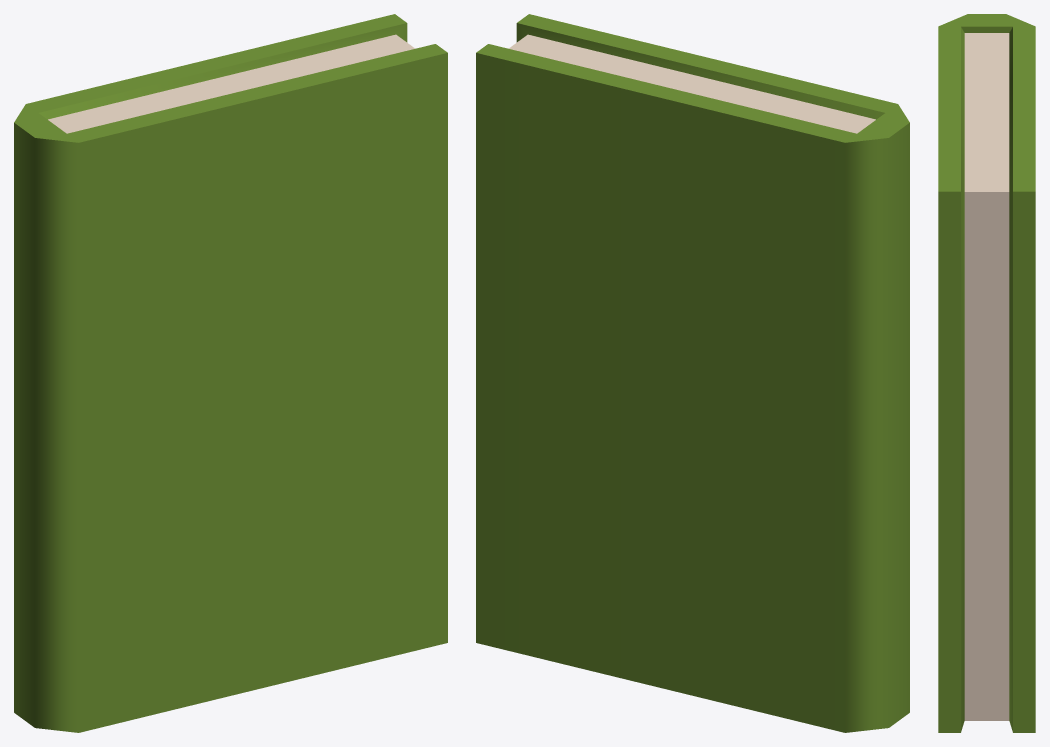
File: SM_Book_1_03.fbx
3 views of the same model, side by side, from view 1: azimuth 30°, elevation 25°; view 2: azimuth 150°, elevation 25°; view 3: azimuth 270°, elevation 25° (orthographic). The views are drawn at different scales.
Parts seen in each view (by area): view 1: SM_Book_1_03; view 2: SM_Book_1_03; view 3: SM_Book_1_03.
Boxes of the visible parts, x1=… form: SM_Book_1_03: x1=14, y1=14, x2=447, y2=732; SM_Book_1_03: x1=476, y1=14, x2=909, y2=732; SM_Book_1_03: x1=938, y1=14, x2=1035, y2=732.
Size of the model in its own units: 24.47 by 34.76 by 5.66.
